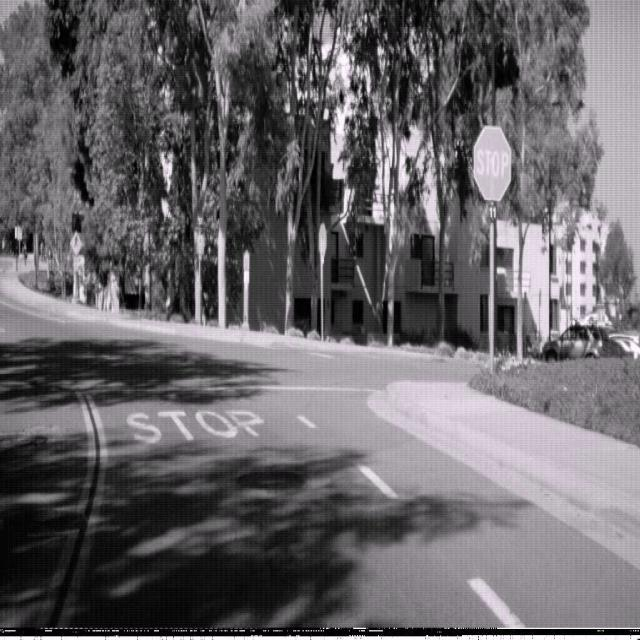pedestrianCrossing: (69, 230, 83, 256)
stop: (473, 125, 511, 201)
